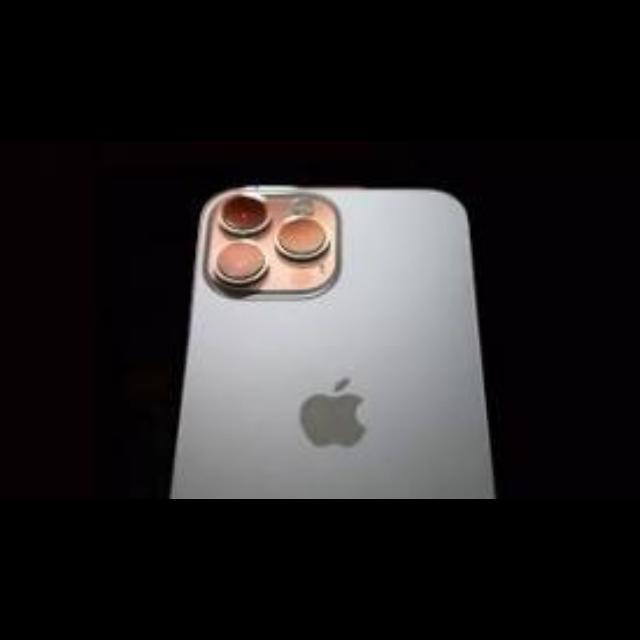PhoneUse: (172, 184, 494, 498)
